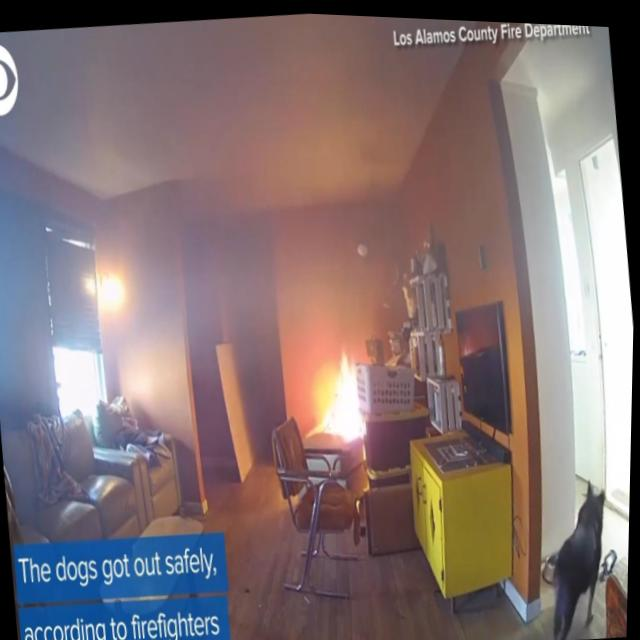fire: (308, 335, 372, 448)
